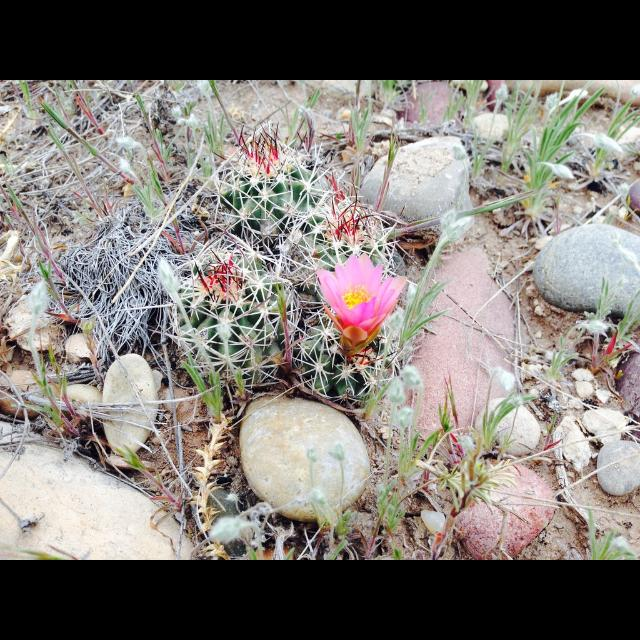Flower: (316, 251, 412, 355)
